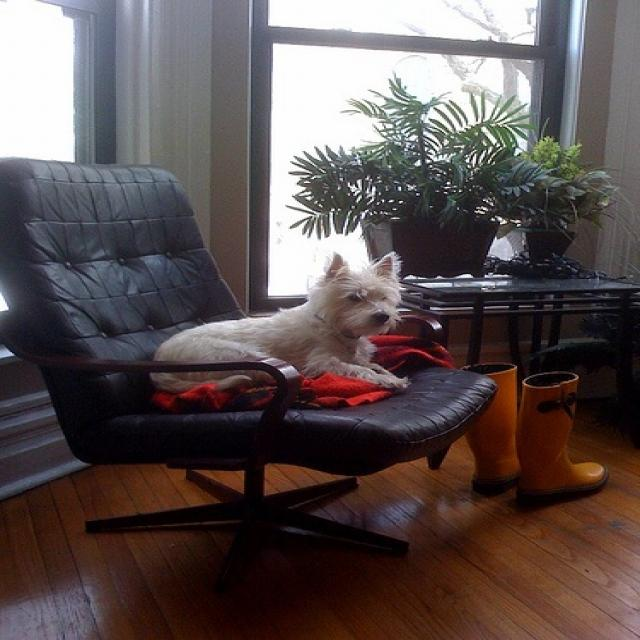dog: (146, 250, 410, 394)
